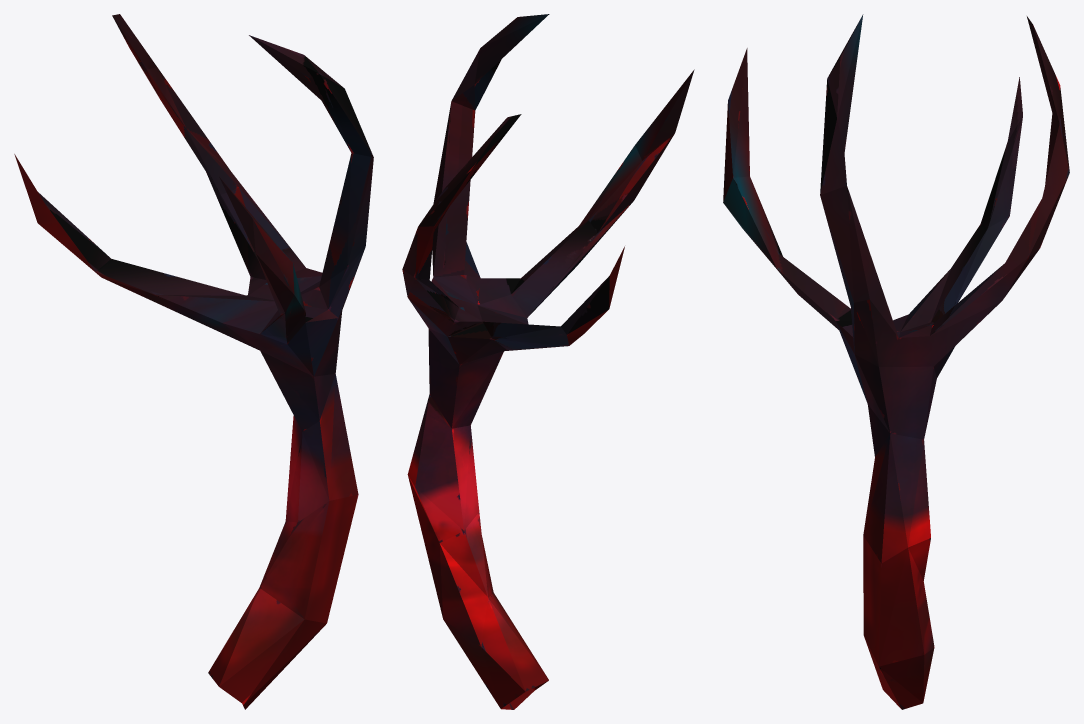
File: monster_arm.obj
The picture shows the model from 3 angles, left to right: view 1: azimuth 30°, elevation 25°; view 2: azimuth 150°, elevation 25°; view 3: azimuth 270°, elevation 25°; orthographic projection.
Parts seen in each view (by area): view 1: Monster_Arm_Cube.006; view 2: Monster_Arm_Cube.006; view 3: Monster_Arm_Cube.006.
Part boxes in pixels (x1=…): Monster_Arm_Cube.006: x1=14, y1=14, x2=373, y2=709; Monster_Arm_Cube.006: x1=402, y1=14, x2=694, y2=709; Monster_Arm_Cube.006: x1=723, y1=14, x2=1069, y2=709.
Size of the model in its own units: 2.32 by 5.56 by 2.54.
